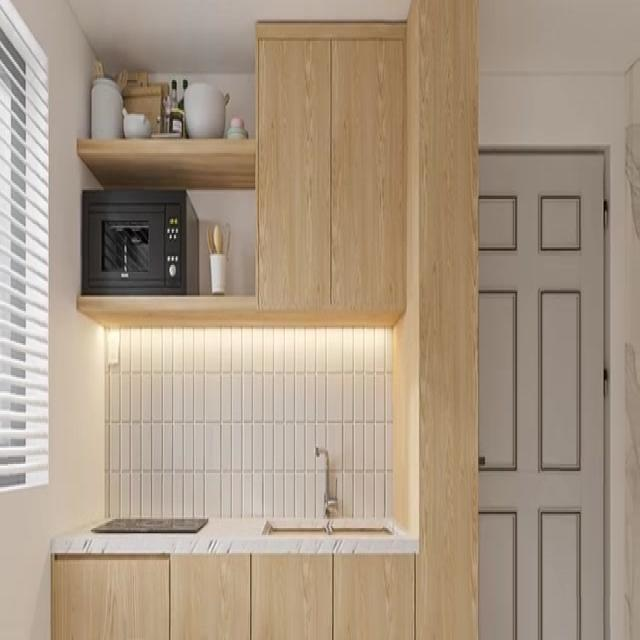door: (476, 147, 605, 638)
obstacle: (255, 17, 407, 326)
